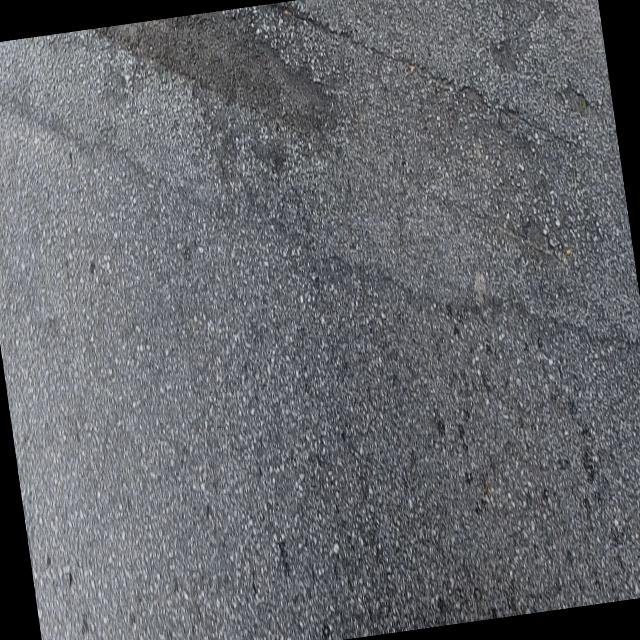Retak-Melintang: (269, 3, 577, 147)
